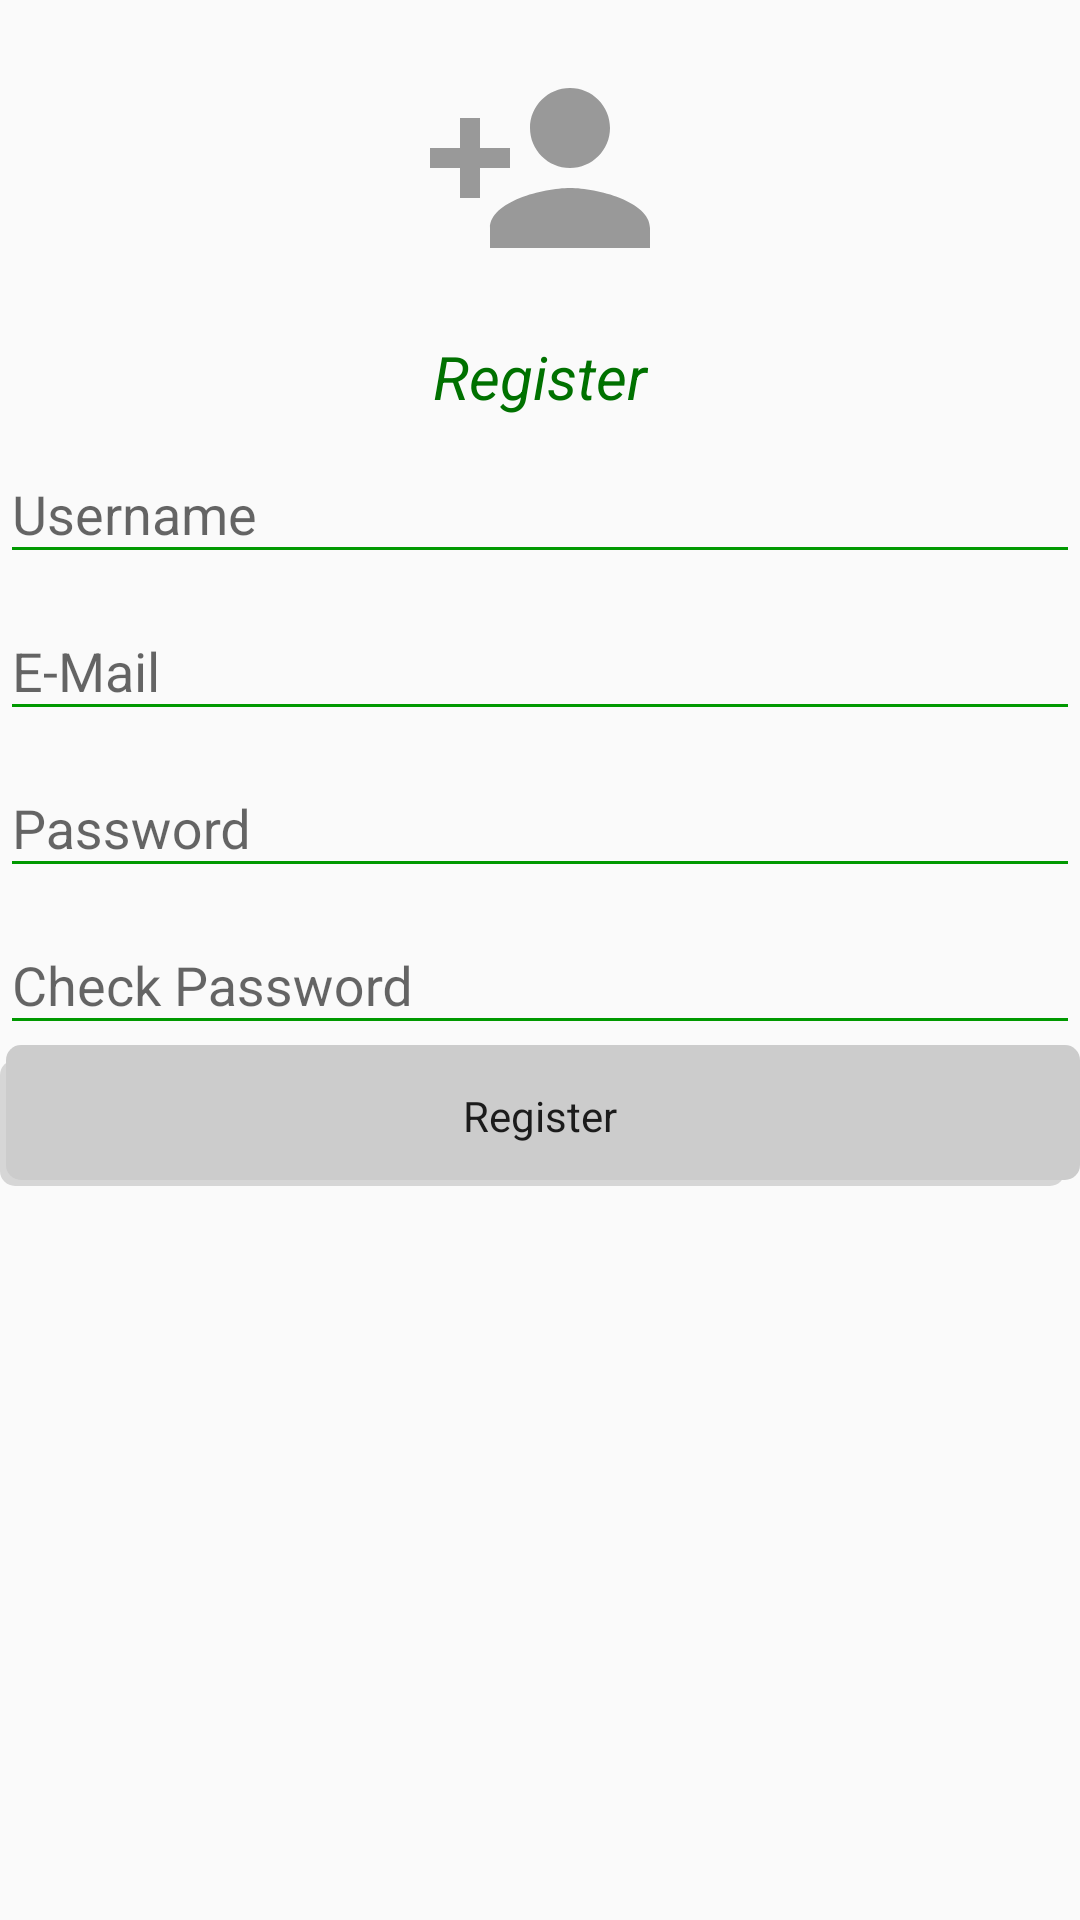

Named icons in this screenshot (1080 x 1920) and their bounding boxes, detection(x1, y1, x2, y2):
person add: detection(430, 88, 650, 248)
